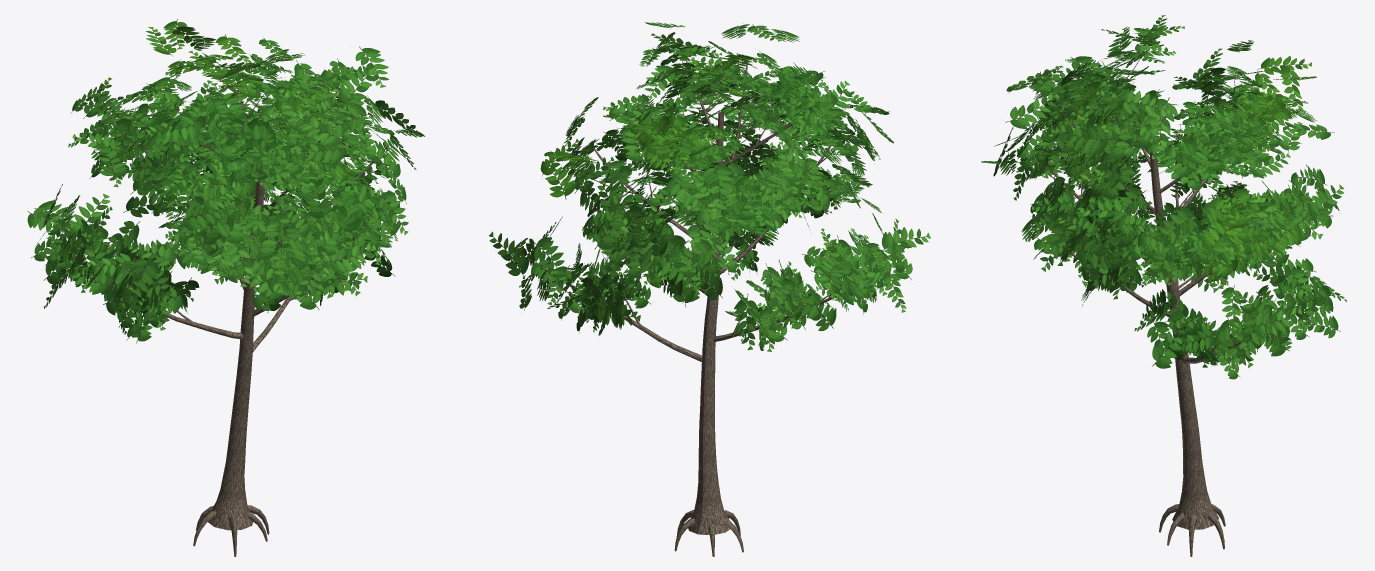
Rendered from copa_a.glb.
The picture shows the model from 3 angles, left to right: view 1: azimuth 30°, elevation 25°; view 2: azimuth 150°, elevation 25°; view 3: azimuth 270°, elevation 25°; orthographic projection. The views are drawn at different scales.
Parts seen in each view (by area): view 1: copa_a; view 2: copa_a; view 3: copa_a.
Boxes of the visible parts, left/top/right/bottom form: copa_a: left=27, top=19, right=424, bottom=556; copa_a: left=489, top=22, right=930, bottom=556; copa_a: left=981, top=15, right=1346, bottom=556.
Size of the model in its own units: 8.95 by 10.44 by 7.52.
2 materials, 2 textured.
